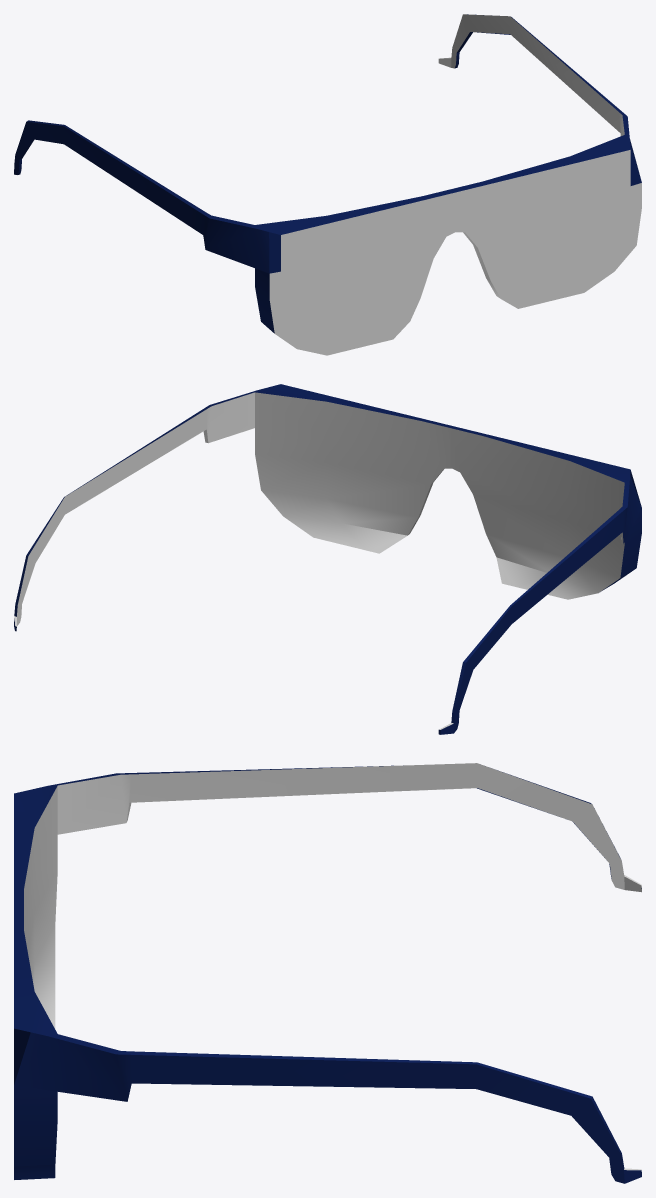
The model's file is blueViper.glb.
3 renders of one model, top to bottom at view 1: azimuth 30°, elevation 25°; view 2: azimuth 150°, elevation 25°; view 3: azimuth 270°, elevation 25°, orthographic. The views are drawn at different scales.
Visible parts, largest first — view 1: Blue Vipers; view 2: Blue Vipers; view 3: Blue Vipers.
Part boxes in pixels (bbox=[...]): Blue Vipers: bbox=[14, 14, 641, 355]; Blue Vipers: bbox=[14, 384, 641, 734]; Blue Vipers: bbox=[14, 763, 641, 1183].
Size of the model in its own units: 0.6843 by 0.1938 by 0.6036.
